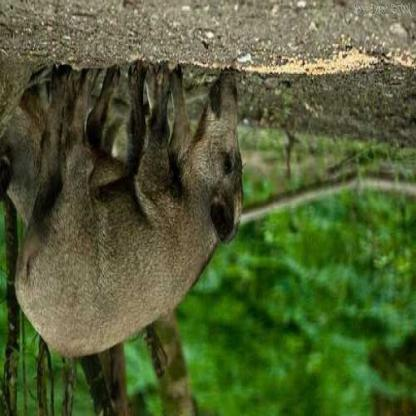boar: (12, 23, 290, 373)
